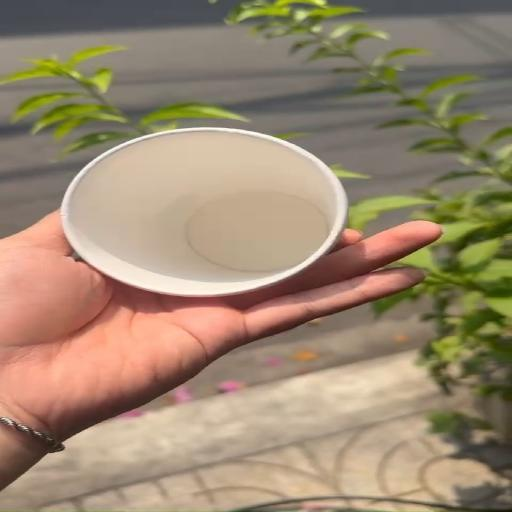ly_giay: (62, 127, 348, 296)
